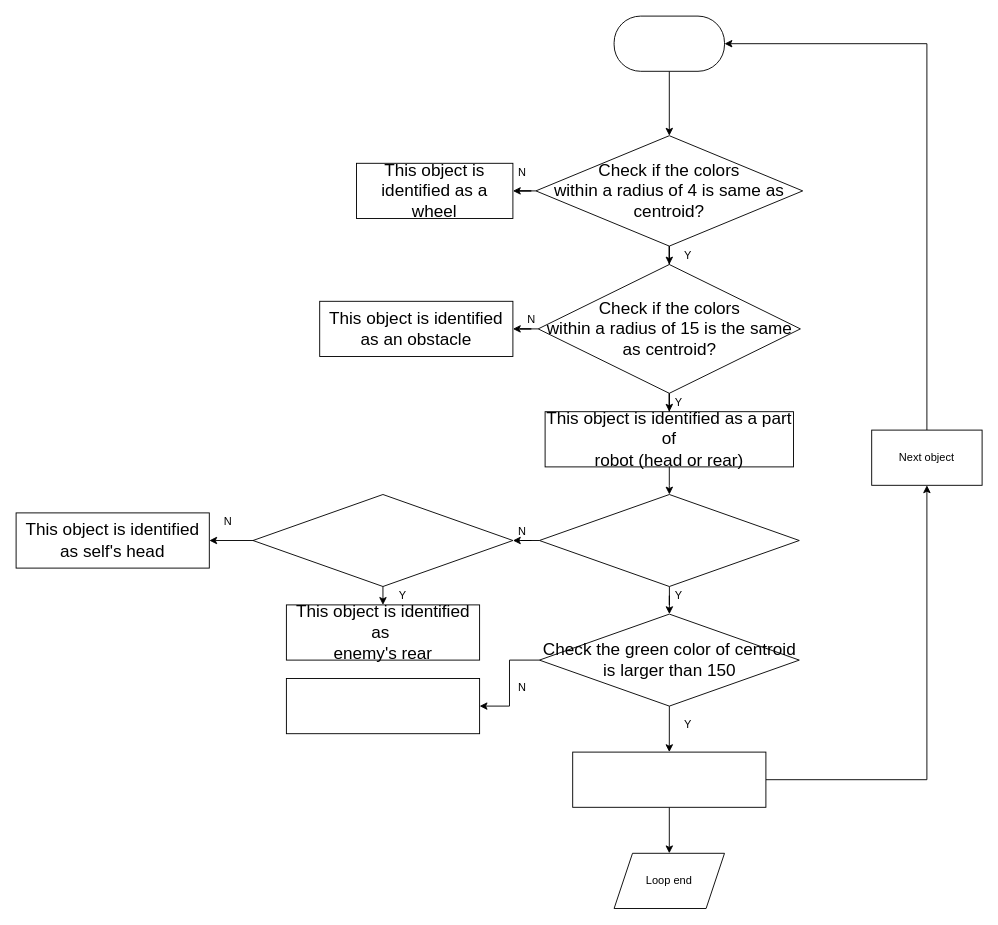
Some shapes in this 998 by 925 pixel diagram are drawn without their labels. The centre of each missing label's shape, as x and y in pixels:
"Check the blue color of centroid is larger than 200" belongs at (382,540).
"Check the Red color of centroid is larger than 200" belongs at (668,540).
"Each object in labeled ma p" belongs at (668,43).
"This object is identified as enemy's head" belongs at (669,779).
"This object is identified as self's rear" belongs at (382,706).
